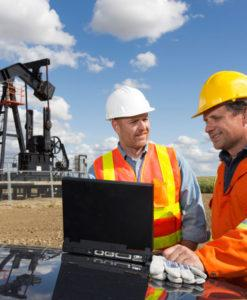helmet: (190, 70, 247, 124), (106, 85, 157, 123)
